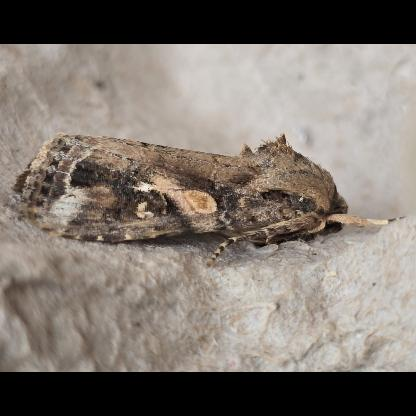Fall Armyworm Moth: (6, 130, 410, 270)
